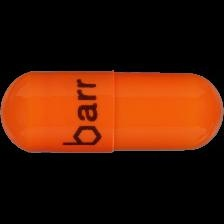0555-0513: (0, 0, 224, 224)
